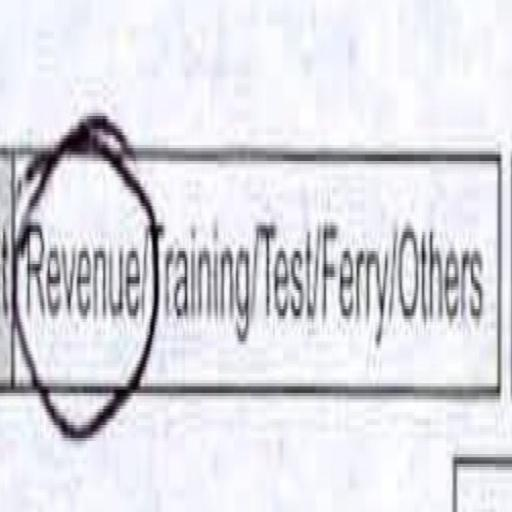check: (21, 106, 143, 442)
